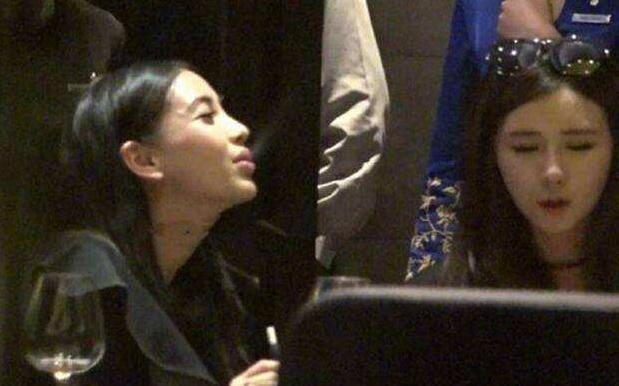smoking: (264, 324, 286, 359)
